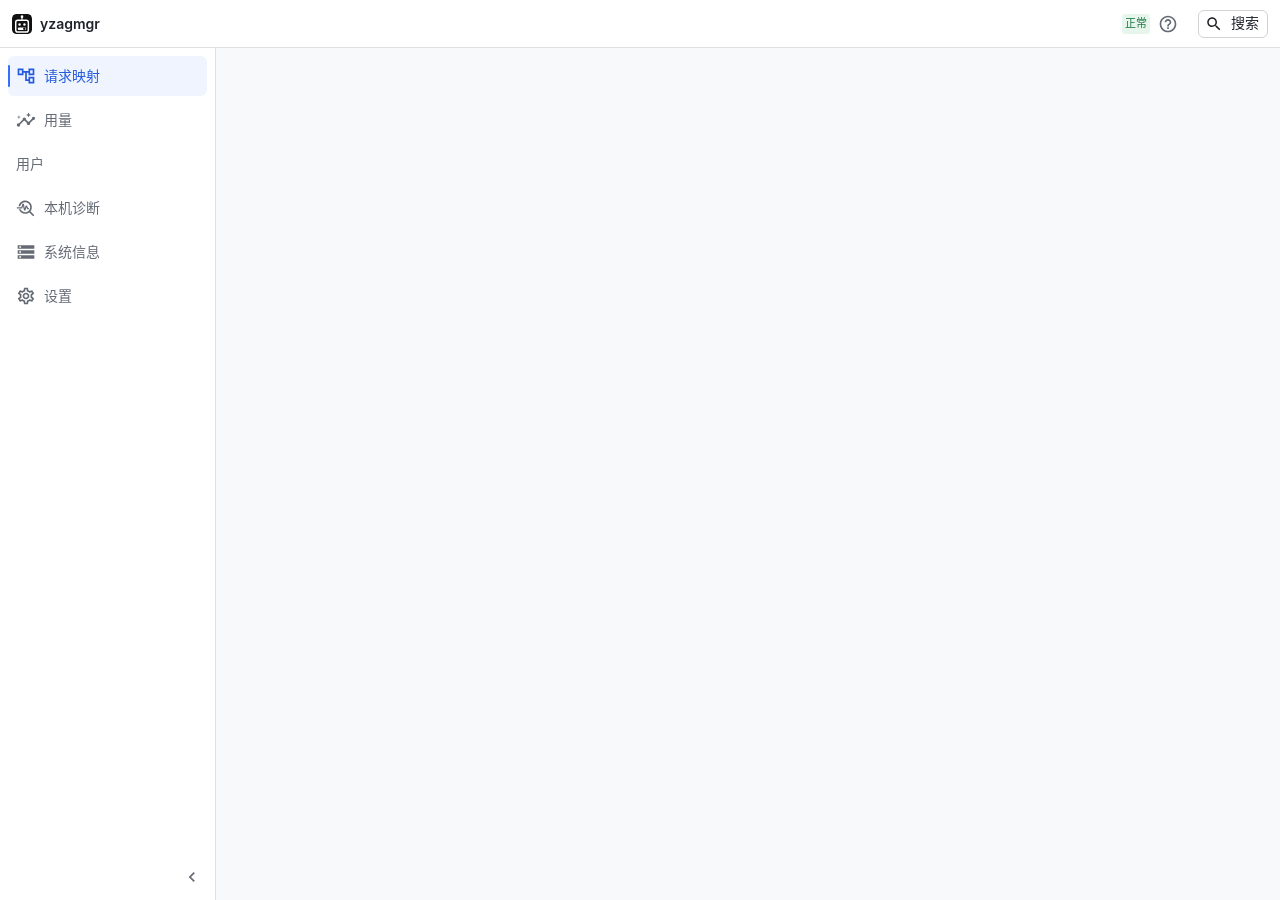
Test: 顶栏健康摘要 › 状态摘要保持简洁；详细的服务状态由可访问帮助按需展开
The width and height of the screenshot is (1280, 900).
Check: the element "健康" is not shown
Step 1. Click the button named "查看本机服务状态详情" → coordinates (1168, 24), box [1154, 10, 1182, 38]
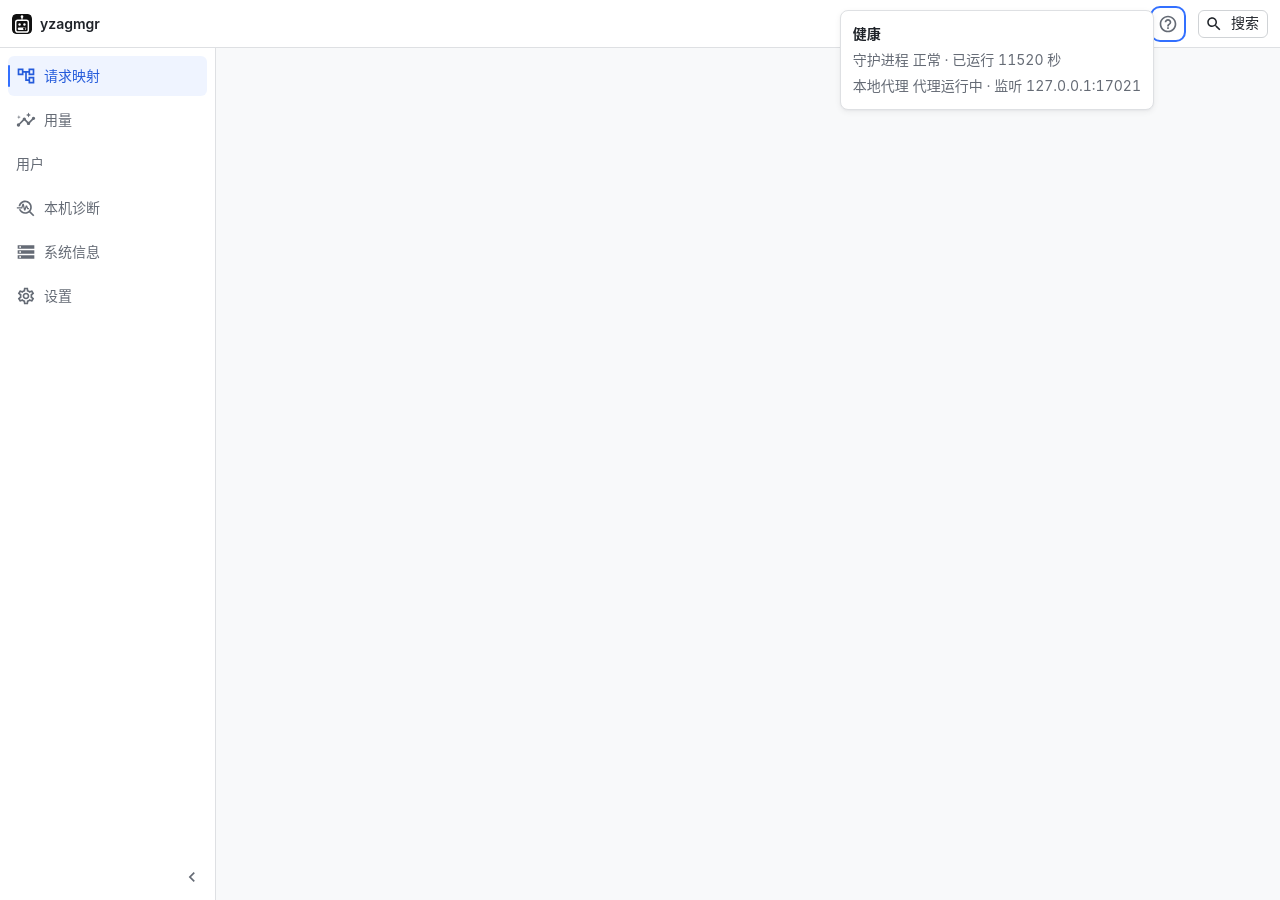
Check: the text "守护进程" is shown, box [853, 49, 909, 71]
Check: the text "代理" is shown, box [853, 75, 909, 97]
